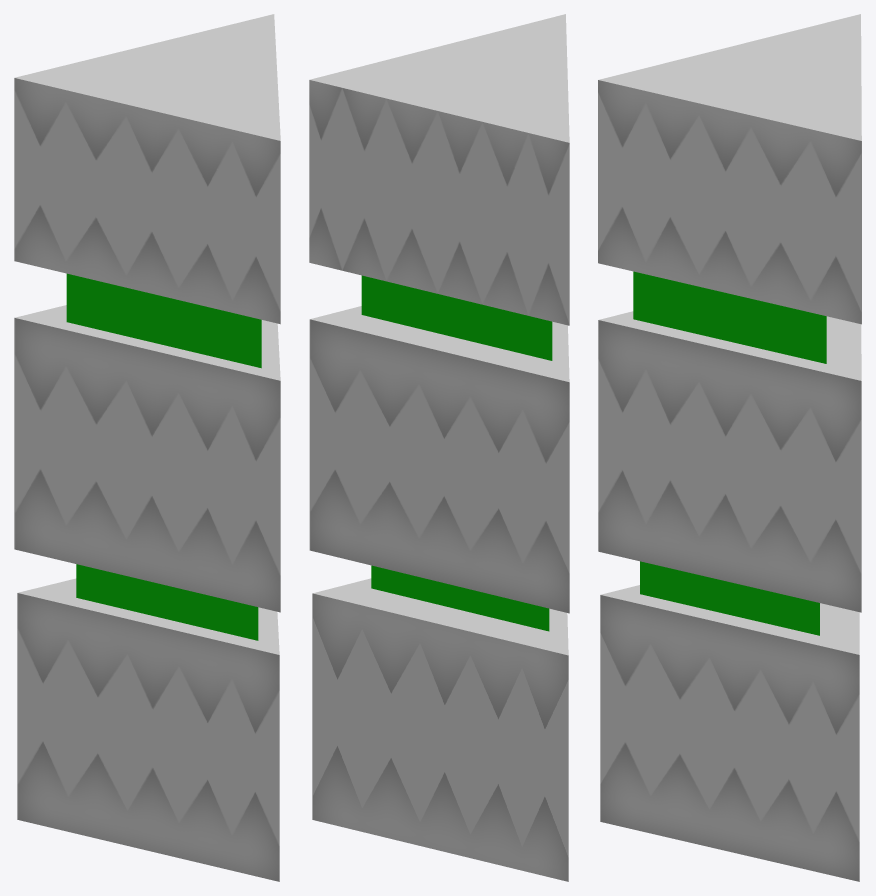
The model's file is SM_Triangle_Column.fbx.
The picture shows the model from 3 angles, left to right: view 1: azimuth 30°, elevation 25°; view 2: azimuth 150°, elevation 25°; view 3: azimuth 270°, elevation 25°; orthographic projection.
Visible parts, largest first — view 1: pCube2; view 2: pCube2; view 3: pCube2.
Part boxes in pixels (<box>): pCube2: <box>14,14,280,881</box>; pCube2: <box>309,14,569,881</box>; pCube2: <box>598,14,861,881</box>.
Bounding box in the file's own units: 5.8 × 15.78 × 5.09.
3 materials, 1 textured.
